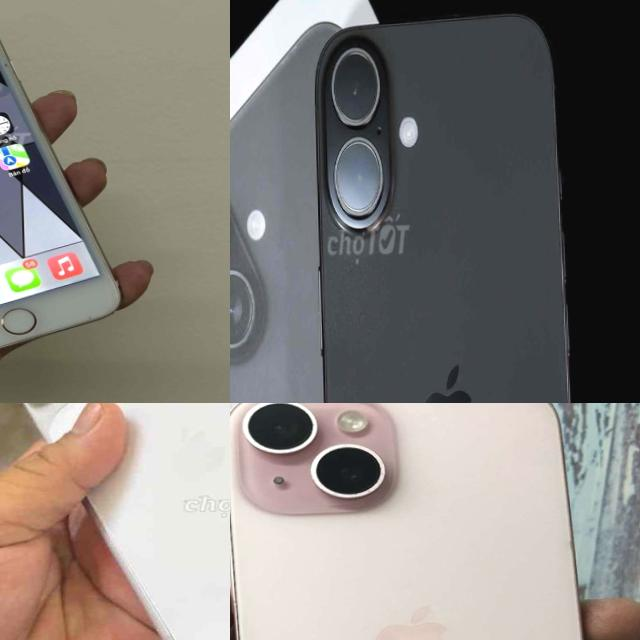gen_15: (230, 403, 624, 640)
gen_16: (298, 0, 585, 403)
gen_17: (0, 403, 230, 640)
gen_7_8: (0, 0, 127, 368)
